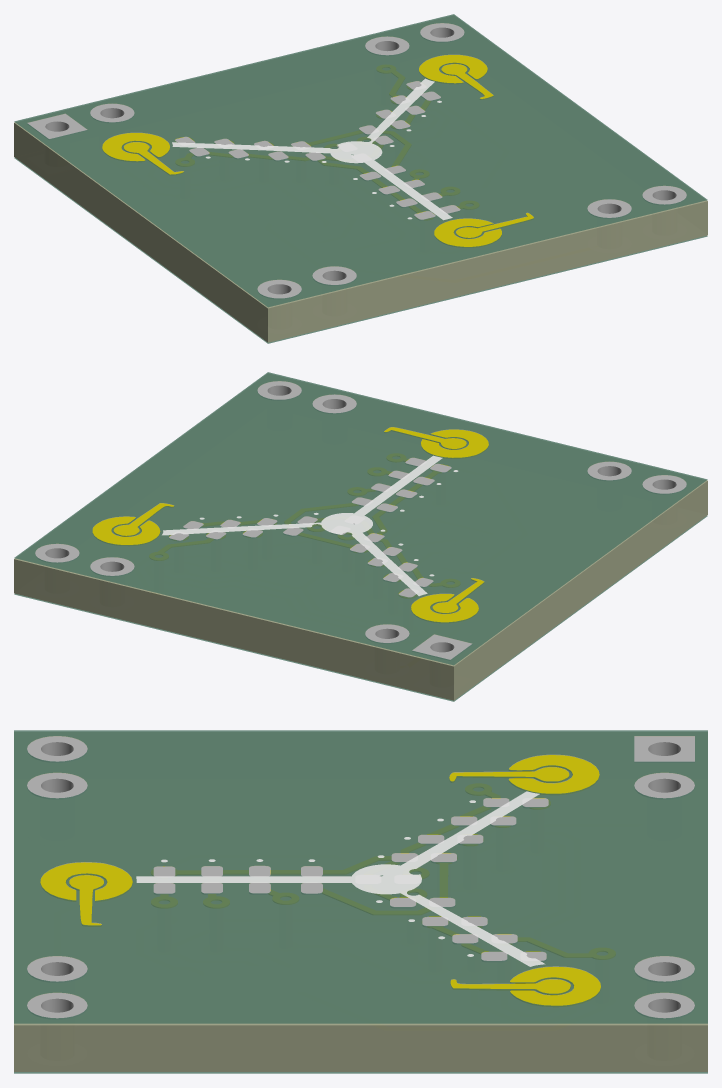
File: fluxcapacitor-minibadge.glb
3 renders of one model, top to bottom at view 1: azimuth 30°, elevation 25°; view 2: azimuth 150°, elevation 25°; view 3: azimuth 270°, elevation 25°, orthographic. The views are drawn at different scales.
Visible parts, largest first — view 1: =>[0:1:1:9], =>[0:1:1:7], =>[0:1:1:2], =>[0:1:1:5]; view 2: =>[0:1:1:9], =>[0:1:1:7], =>[0:1:1:2], =>[0:1:1:5]; view 3: =>[0:1:1:9], =>[0:1:1:7], =>[0:1:1:2], =>[0:1:1:5].
Part boxes in pixels (x1=…): =>[0:1:1:9]: x1=14, y1=16, x2=707, y2=342; =>[0:1:1:7]: x1=14, y1=14, x2=707, y2=343; =>[0:1:1:2]: x1=27, y1=23, x2=686, y2=298; =>[0:1:1:5]: x1=172, y1=78, x2=452, y2=220; =>[0:1:1:9]: x1=14, y1=374, x2=707, y2=700; =>[0:1:1:7]: x1=14, y1=372, x2=707, y2=701; =>[0:1:1:2]: x1=35, y1=381, x2=686, y2=660; =>[0:1:1:5]: x1=162, y1=455, x2=458, y2=596; =>[0:1:1:9]: x1=14, y1=732, x2=707, y2=1071; =>[0:1:1:7]: x1=14, y1=730, x2=707, y2=1073; =>[0:1:1:2]: x1=27, y1=736, x2=694, y2=1018; =>[0:1:1:5]: x1=136, y1=791, x2=545, y2=966.
Bounding box in the file's own units: 0.0203 × 0.00166 × 0.0203.
4 materials, 4 textured.
